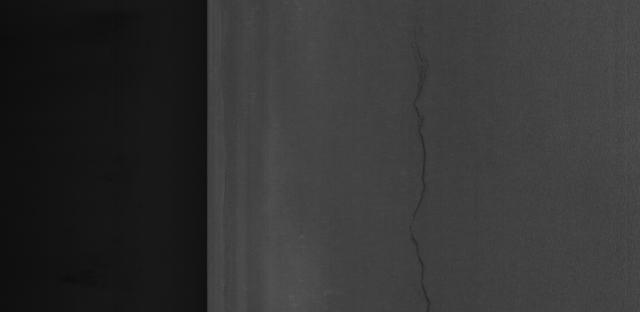water_spot: (401, 44, 452, 307)
